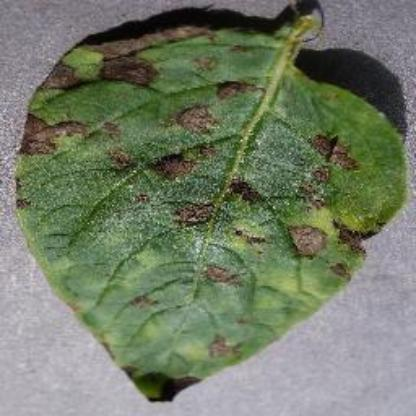Early-Blight: (15, 11, 404, 403)
